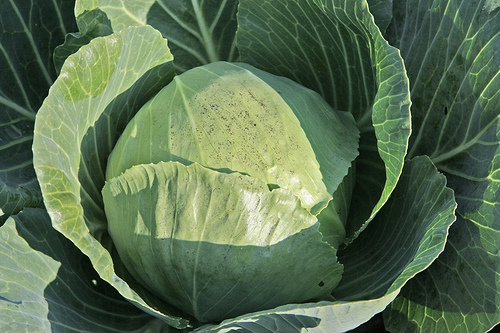cabbage: (101, 61, 361, 320)
